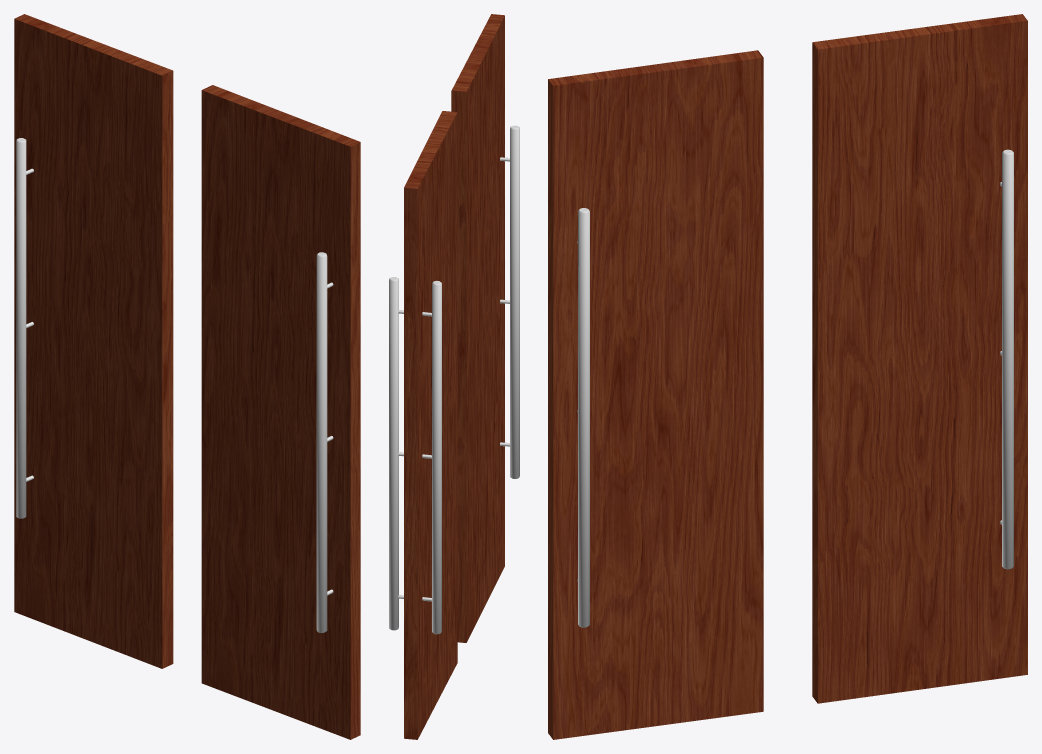
File: Door02.fbx
3 views of the same model, side by side, from view 1: azimuth 30°, elevation 25°; view 2: azimuth 150°, elevation 25°; view 3: azimuth 270°, elevation 25° (orthographic). The views are drawn at different scales.
Parts seen in each view (by area): view 1: Door03, Door02; view 2: Door02, Door03; view 3: Door03, Door02.
Boxes of the visible parts, x1,y1,x2,y2 form: Door03: (201,85,360,739); Door02: (14,14,173,668); Door02: (389,111,457,739); Door03: (451,14,519,642); Door03: (548,50,763,739); Door02: (812,14,1027,703).
Bounding box in the file's own units: 0.737 × 2.67 × 1.77.
